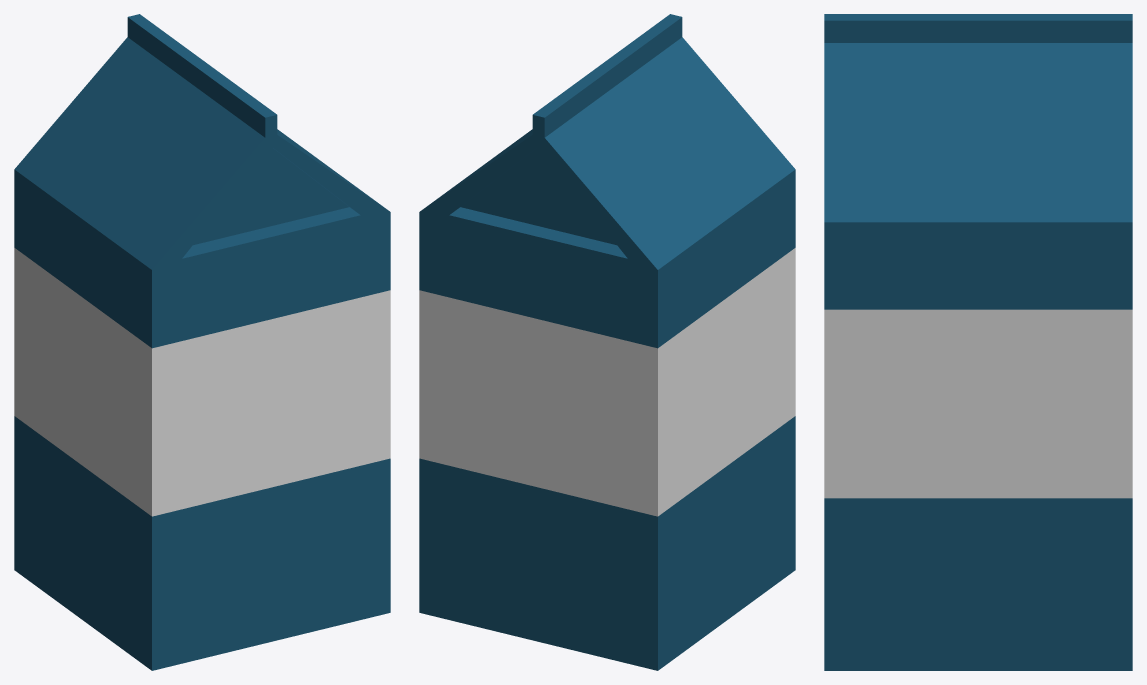
File: MilkCartonBlue.fbx
3 views of the same model, side by side, from view 1: azimuth 30°, elevation 25°; view 2: azimuth 150°, elevation 25°; view 3: azimuth 270°, elevation 25° (orthographic). The views are drawn at different scales.
Visible parts, largest first — view 1: MilkCartonBlue; view 2: MilkCartonBlue; view 3: MilkCartonBlue.
Part boxes in pixels (left/top/right/bottom): MilkCartonBlue: left=14, top=14, right=390, bottom=670; MilkCartonBlue: left=419, top=14, right=795, bottom=670; MilkCartonBlue: left=824, top=14, right=1132, bottom=670.
Bounding box in the file's own units: 0.1669 × 0.3514 × 0.1669.
